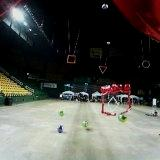Green_Balloon: (118, 114, 127, 122), (82, 120, 88, 128), (59, 110, 65, 116)
Orange_Circle_GShape: (142, 60, 150, 68)
Orange_Square_GShape: (66, 54, 76, 65)
Orange_Triangle_Gshape: (99, 65, 108, 74)
Purple_Balloon: (56, 124, 65, 133), (102, 3, 108, 10)
